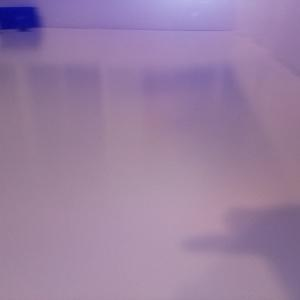dead_ball: (14, 13, 31, 31)
